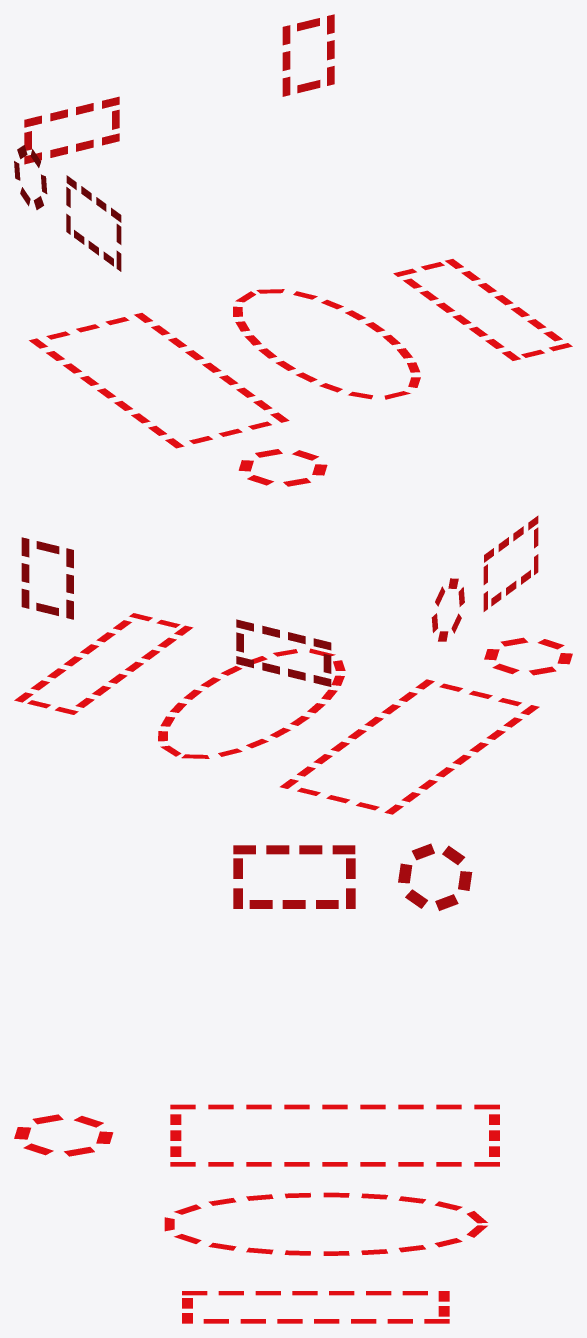
File: Contour.fbx
The picture shows the model from 3 angles, top to bottom: view 1: azimuth 30°, elevation 25°; view 2: azimuth 150°, elevation 25°; view 3: azimuth 270°, elevation 25°; orthographic projection. The views are drawn at different scales.
Parts seen in each view (by area): view 1: Plane.025, Plane.006, Plane.008, Cylinder.016, Plane.010, Plane.013, Plane.022, Cylinder.015; view 2: Plane.025, Plane.008, Plane.006, Cylinder.016, Plane.013, Plane.010, Plane.021, Plane.022, Cylinder.015, Plane.019, Plane.020; view 3: Plane.025, Cylinder.015, Plane.008, Plane.006, Cylinder.016, Plane.011, Plane.013, Plane.010, Plane.014.
Boxes of the visible parts, x1,y1,x2,y2 form: Plane.025: [233, 289, 420, 399]; Plane.006: [134, 313, 289, 422]; Plane.008: [29, 338, 184, 448]; Cylinder.016: [238, 449, 327, 486]; Plane.010: [403, 278, 520, 360]; Plane.013: [445, 259, 562, 341]; Plane.022: [24, 96, 119, 127]; Cylinder.015: [14, 145, 47, 209]; Plane.025: [158, 648, 345, 758]; Plane.008: [384, 705, 539, 814]; Plane.006: [280, 679, 434, 788]; Cylinder.016: [484, 637, 572, 675]; Plane.013: [14, 620, 131, 702]; Plane.010: [75, 625, 193, 707]; Plane.021: [236, 656, 331, 686]; Plane.022: [236, 619, 331, 650]; Cylinder.015: [431, 578, 464, 641]; Plane.019: [21, 537, 29, 608]; Plane.020: [66, 548, 73, 619]; Plane.025: [164, 1192, 487, 1255]; Cylinder.015: [398, 843, 472, 910]; Plane.008: [170, 1104, 499, 1109]; Plane.006: [170, 1162, 499, 1166]; Cylinder.016: [14, 1114, 113, 1156]; Plane.011: [233, 845, 355, 854]; Plane.013: [203, 1319, 449, 1323]; Plane.010: [182, 1291, 427, 1295]; Plane.014: [249, 900, 338, 908].
Bounding box in the file's own units: 180 × 88.72 × 182.
